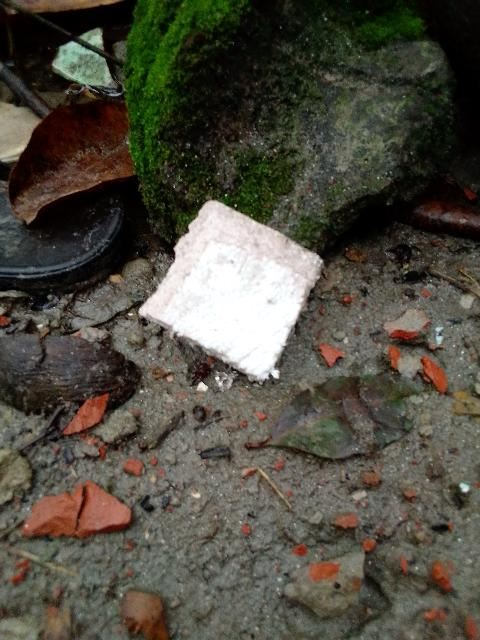cocksheet: (130, 190, 332, 393)
